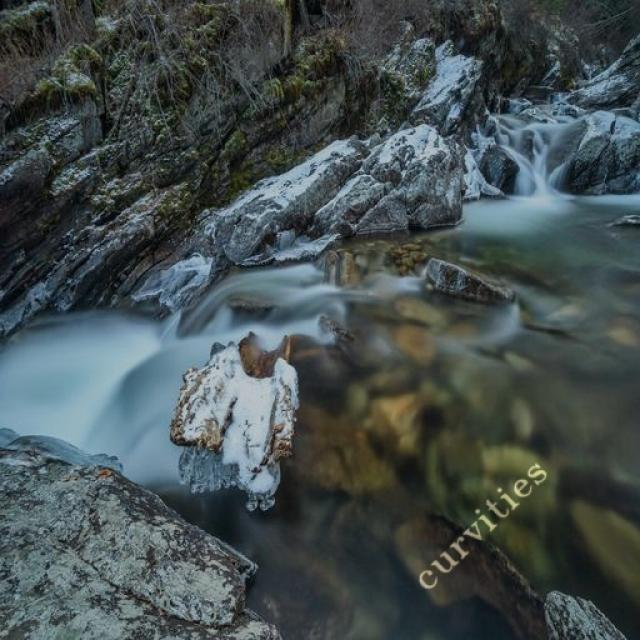watermark: (416, 446, 549, 598)
